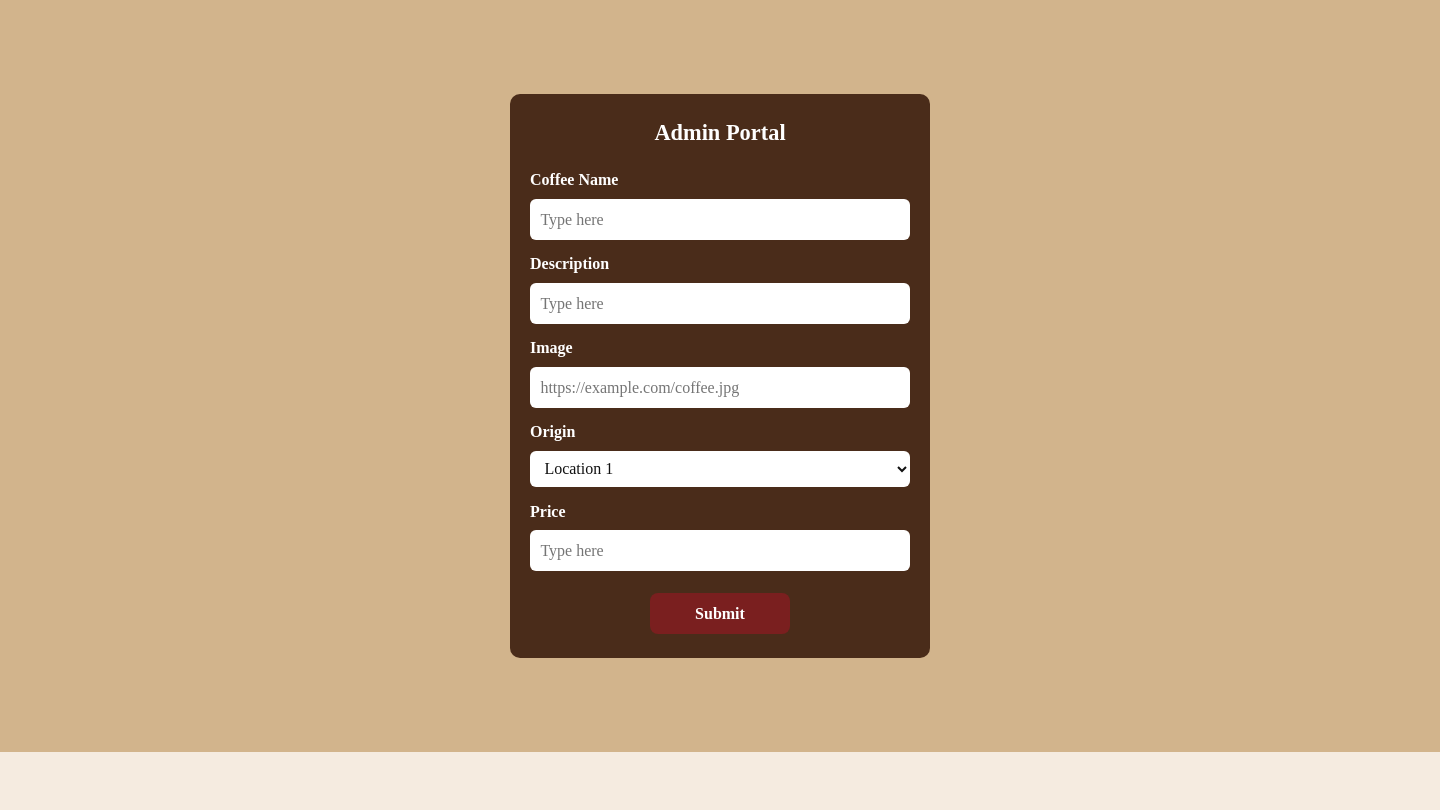
AdminPage › shows validation errors for empty submit
Click the button "Submit": (720, 613) [650,593,790,634]
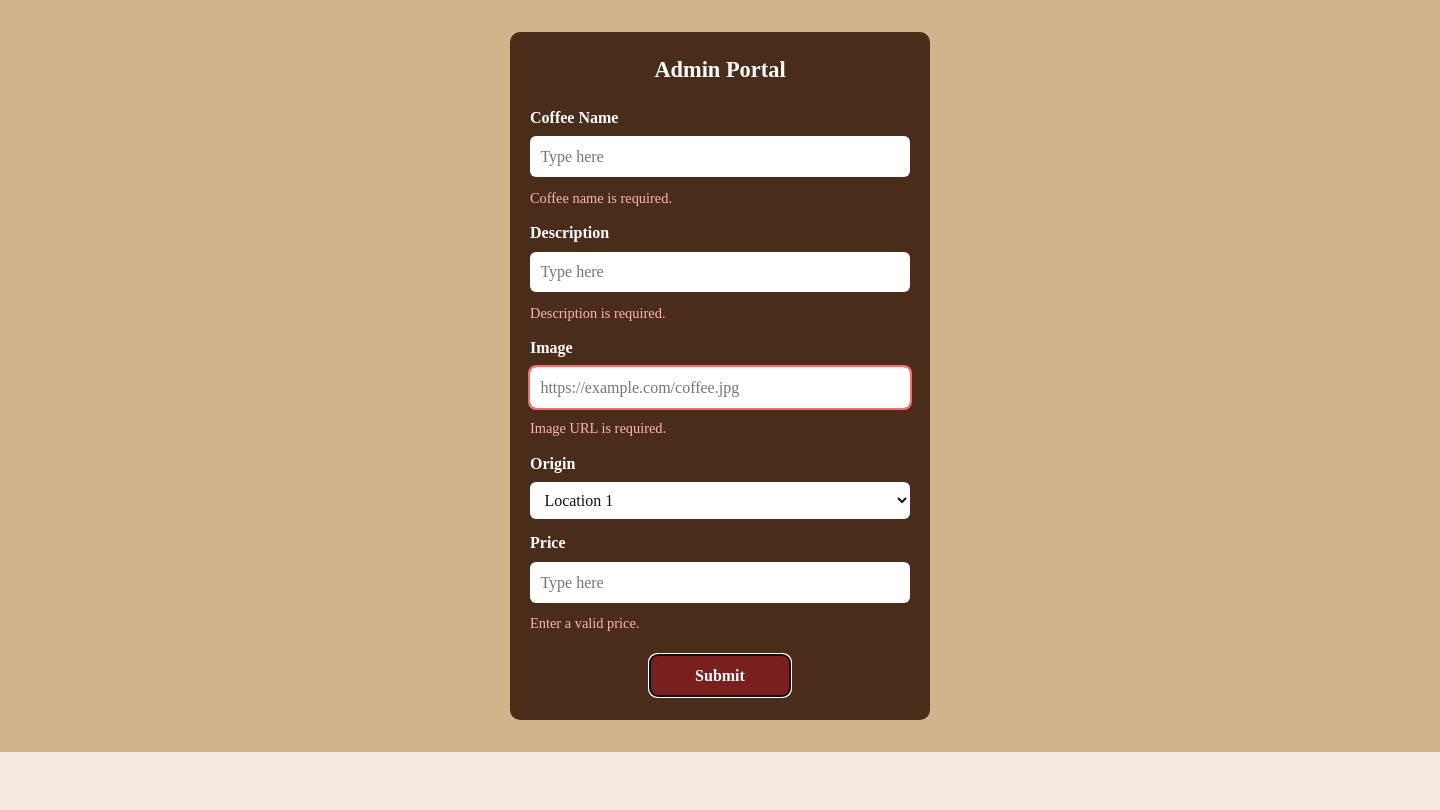
expect the text "Coffee name is required." is shown: met, box [530,190,672,206]
expect the text "Description is required." is shown: met, box [530,305,666,321]
expect the text "Image URL is required." is shown: met, box [530,420,666,436]
